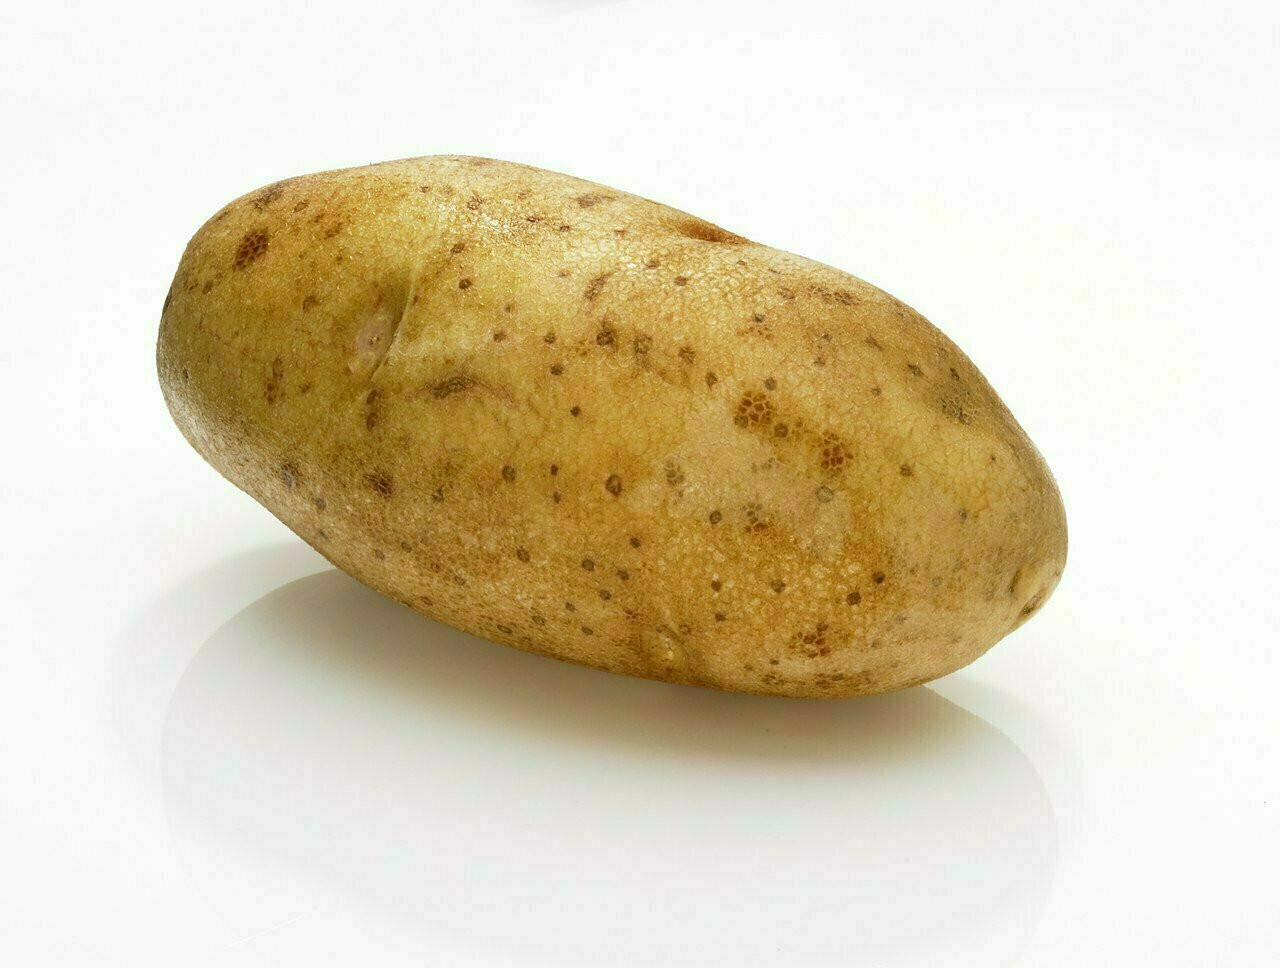potato: (151, 150, 1074, 702)
